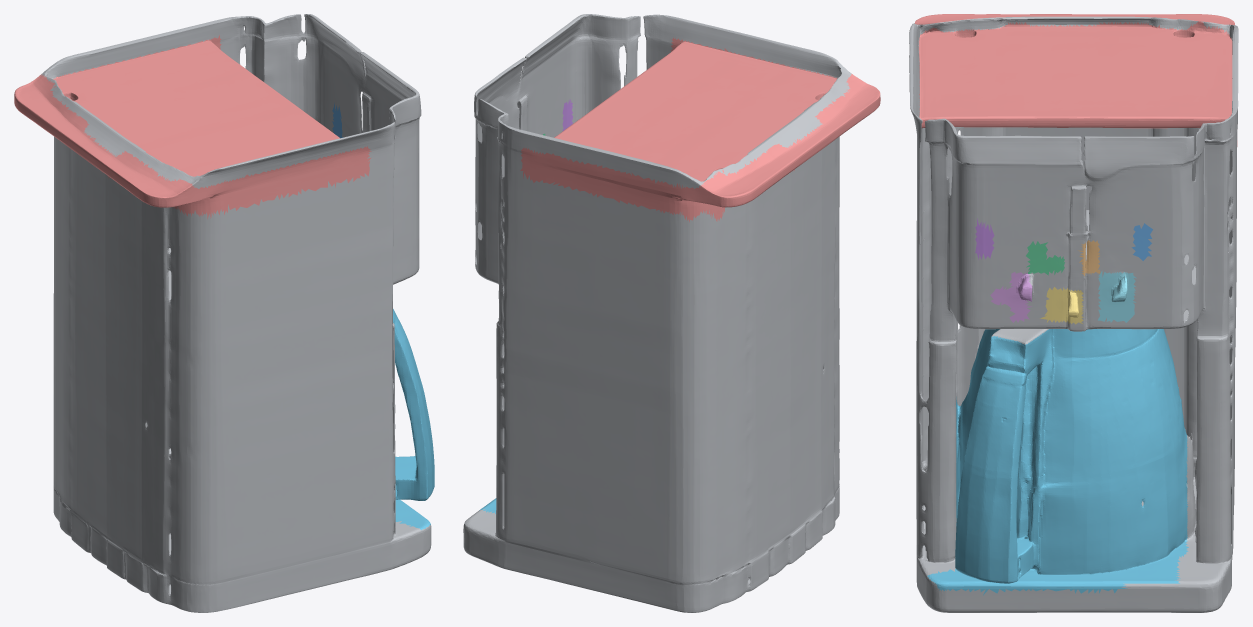
File: parts.glb
3 views of the same model, side by side, from view 1: azimuth 30°, elevation 25°; view 2: azimuth 150°, elevation 25°; view 3: azimuth 270°, elevation 25° (orthographic). The views are drawn at different scales.
Parts seen in each view (by area): view 1: visual_0_0, visual_5_0, visual_6_0; view 2: visual_0_0, visual_5_0; view 3: visual_0_0, visual_6_0, visual_5_0, visual_8_0, visual_9_0, visual_7_0, visual_3_0, visual_4_0, visual_2_0, visual_1_0.
Boxes of the visible parts, x1,y1,x2,y2 form: visual_0_0: (41,14,431,612); visual_5_0: (14,35,371,219); visual_6_0: (393,309,434,529); visual_0_0: (463,14,851,612); visual_5_0: (520,37,880,222); visual_0_0: (909,16,1238,612); visual_6_0: (927,329,1188,595); visual_5_0: (914,14,1237,146); visual_8_0: (1098,270,1136,322); visual_9_0: (990,272,1032,322); visual_7_0: (1040,287,1083,324); visual_3_0: (1026,241,1064,275); visual_4_0: (975,218,994,259); visual_2_0: (1078,240,1100,275); visual_1_0: (1131,223,1152,260).
Bounding box in the file's own units: 0.6891 × 0.934 × 0.5851.
